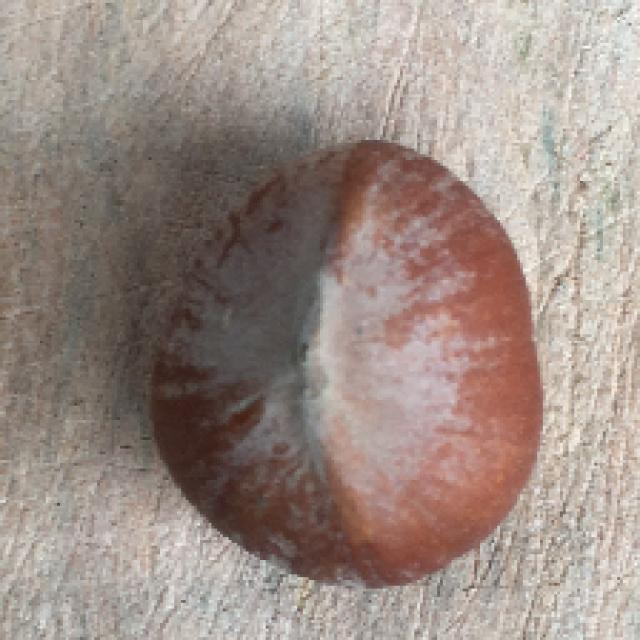qualityHazelnut: (136, 125, 554, 590)
